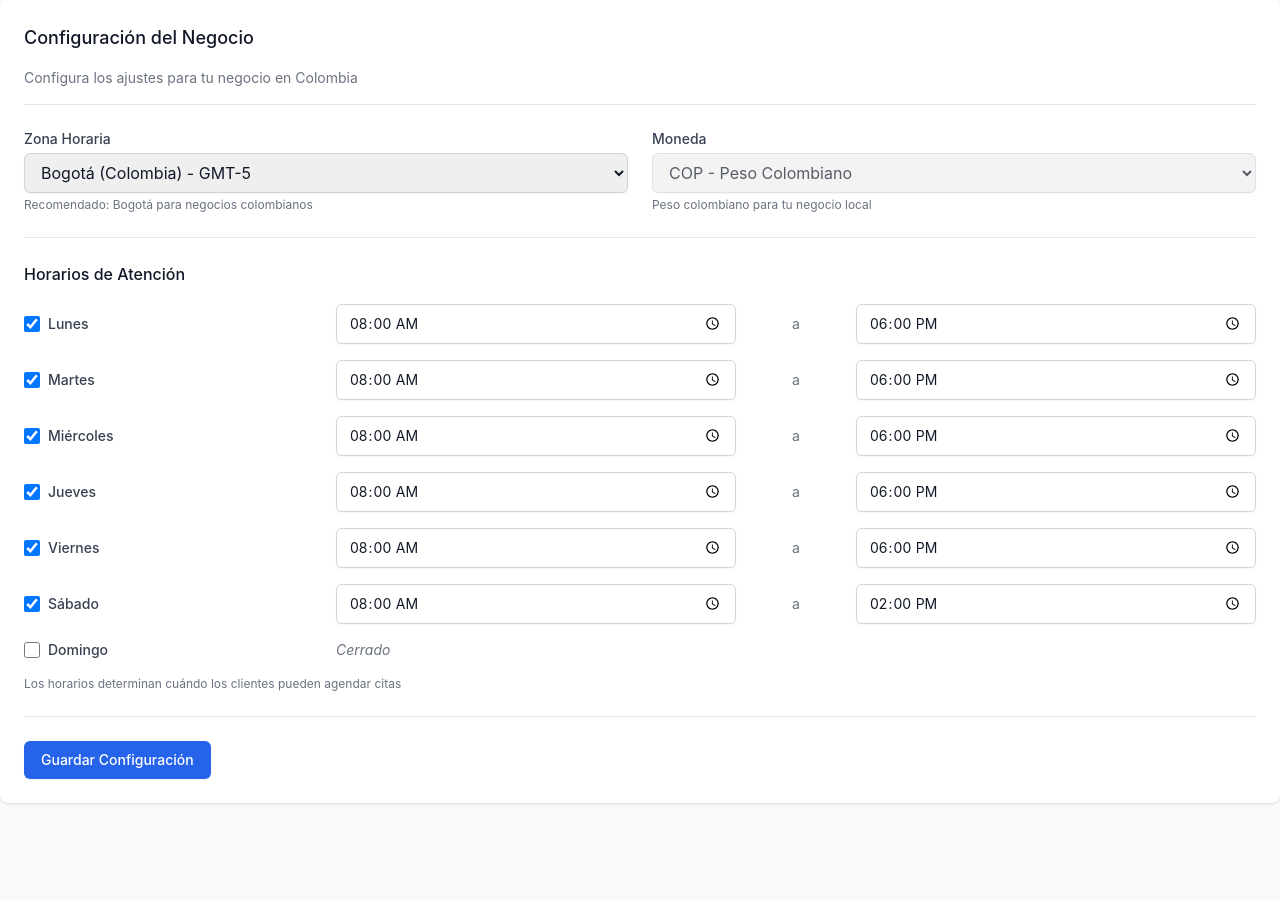
it: BusinessSettingsPanel › validates that open time is before close time
Replace the text in the 2nd time field showing "18:00" with "07:00" at (1056, 324), box [856,304,1256,344]
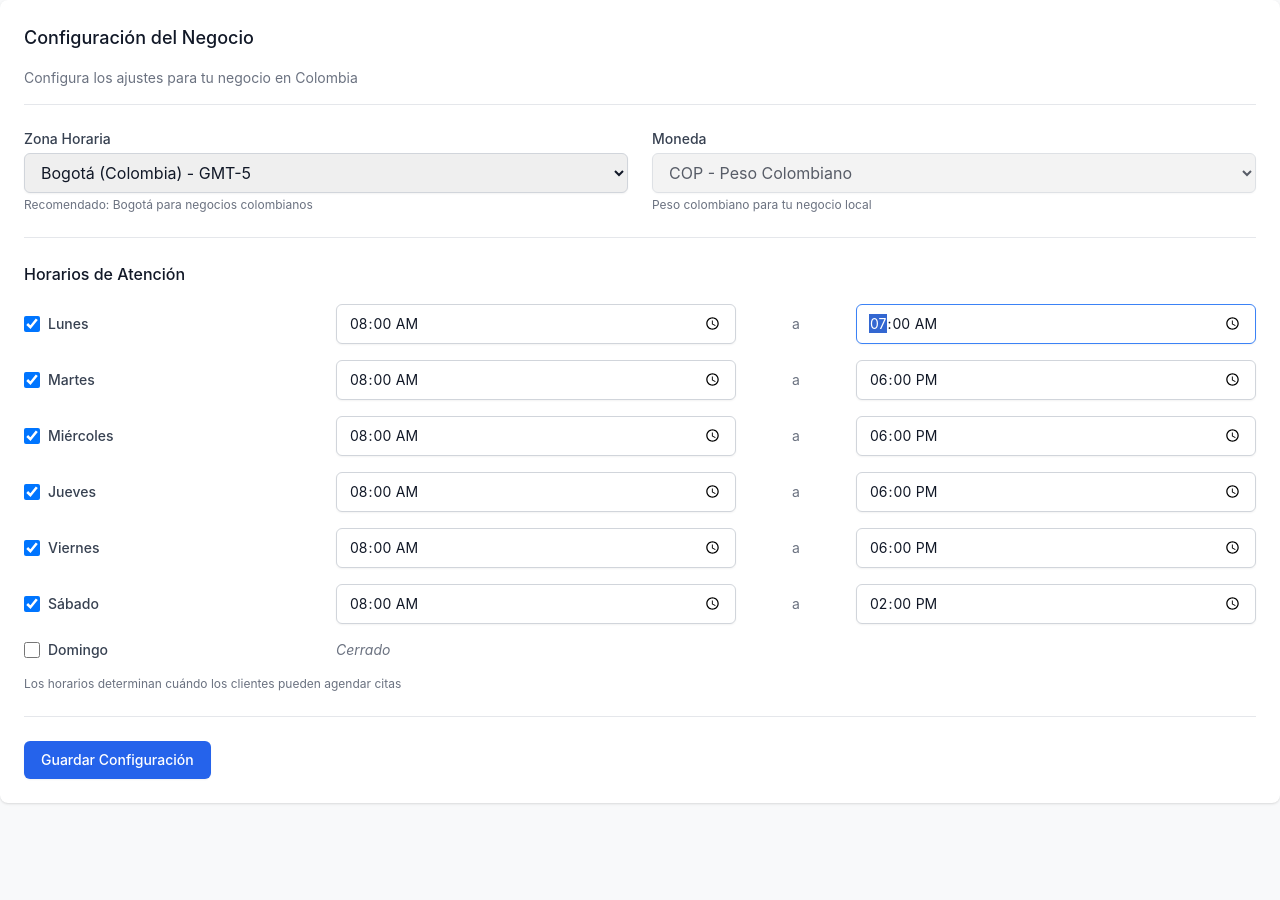
Click the button "Guardar Configuración" at (117, 760), box [24,741,211,779]
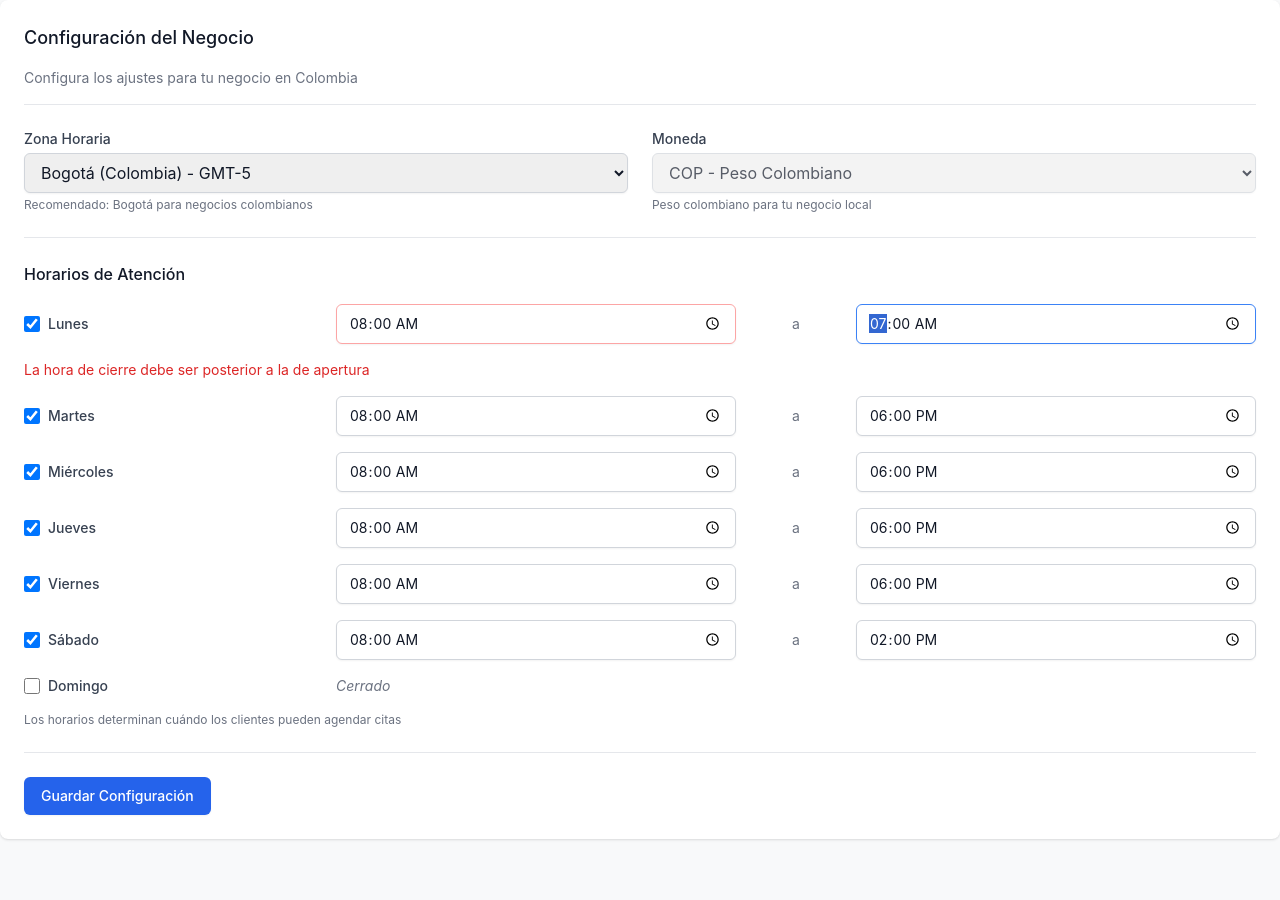
Check: the text "La hora de cierre debe ser posterior a la de apertura" is shown, box [24,361,370,378]
